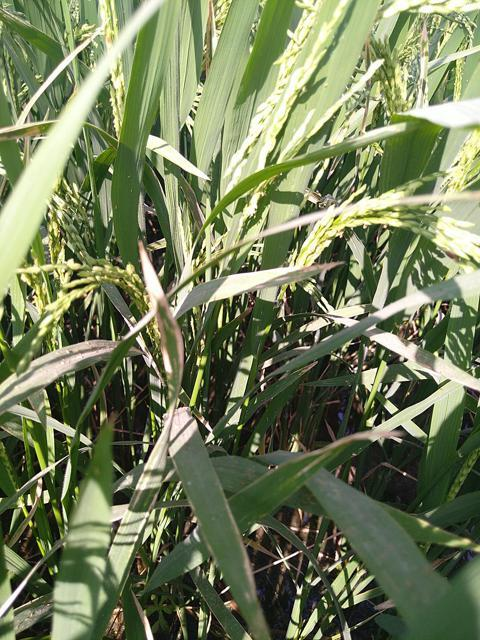Leaf Blight: (138, 240, 184, 409), (207, 264, 341, 303)
